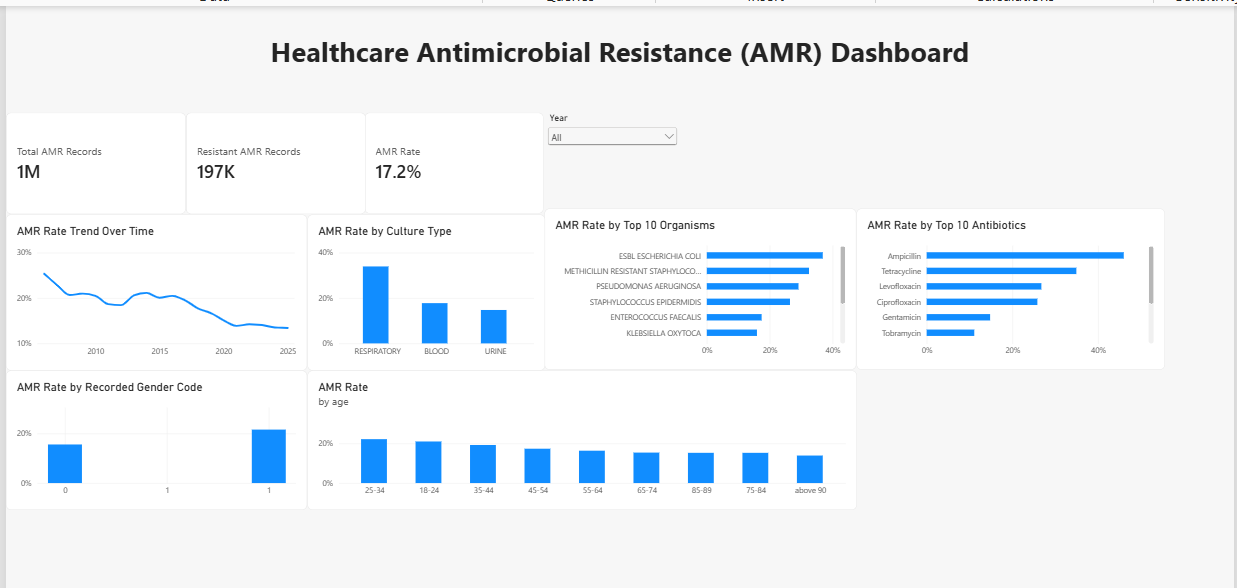

The page's visual inventory and layout, read from the dashboard file:
{"tool":"powerbi","page":{"name":"Page 1","canvas":[1920,1080],"ordinal":0},"visuals":[{"type":"cardVisual","fields":{"Data":["powerbi_amr_dashboard.AMR Rate"]},"box":[561.3,167.2,280.6,158.7],"z":0},{"type":"cardVisual","fields":{"Data":["powerbi_amr_dashboard.Resistant AMR Records"]},"box":[280.6,167.2,281,159],"z":1000},{"type":"cardVisual","fields":{"Data":["powerbi_amr_dashboard.Total AMR Records"]},"box":[0,167.2,281,159],"z":2000},{"type":"clusteredBarChart","title":"AMR Rate by Top 10 Organisms","fields":{"Category":["powerbi_amr_dashboard.organism"],"Y":["powerbi_amr_dashboard.AMR Rate"]},"box":[841.9,317.5,487.6,252.3],"z":2001},{"type":"clusteredBarChart","title":"AMR Rate by Top 10 Antibiotics","fields":{"Category":["powerbi_amr_dashboard.antibiotic"],"Y":["powerbi_amr_dashboard.AMR Rate"]},"box":[1329.5,317.5,481.9,252.3],"z":2002},{"type":"lineChart","title":"AMR Rate Trend Over Time","fields":{"Category":["powerbi_amr_dashboard.order_time_jittered.Variation.Date Hierarchy.Year"],"Y":["powerbi_amr_dashboard.AMR Rate"]},"box":[0,326,470.6,243.8],"z":2003},{"type":"clusteredColumnChart","title":"AMR Rate by Culture Type","fields":{"Category":["powerbi_amr_dashboard.culture_description"],"Y":["powerbi_amr_dashboard.AMR Rate"]},"box":[470.6,326,371.3,243.8],"z":2004},{"type":"clusteredColumnChart","title":"AMR Rate by Recorded Gender Code","fields":{"Category":["powerbi_amr_dashboard.gender"],"Y":["powerbi_amr_dashboard.AMR Rate"]},"box":[0,569.8,470.6,218.3],"z":2005},{"type":"columnChart","fields":{"Category":["powerbi_amr_dashboard.age"],"Y":["powerbi_amr_dashboard.AMR Rate"]},"box":[470.6,569.8,858.9,218.3],"z":2006},{"type":"textbox","box":[0,42.5,1919.1,62.4],"z":2007},{"type":"slicer","fields":{"Values":["powerbi_amr_dashboard.order_time_jittered.Variation.Date Hierarchy.Year"]},"box":[841.9,167.2,212.6,158.7],"z":2008}]}

Visuals, with their boxes on the page's 1920x1080 design canvas (x1, y1, x2, y2). These are canvas units, not pixel positions in the 1237x588 screenshot, which may show the page scaled, cropped or inside an application window:
cardVisual - powerbi_amr_dashboard.AMR Rate: [x1=561, y1=167, x2=842, y2=326]
cardVisual - powerbi_amr_dashboard.Resistant AMR Records: [x1=281, y1=167, x2=562, y2=326]
cardVisual - powerbi_amr_dashboard.Total AMR Records: [x1=0, y1=167, x2=281, y2=326]
"AMR Rate by Top 10 Organisms" clusteredBarChart: [x1=842, y1=318, x2=1330, y2=570]
"AMR Rate by Top 10 Antibiotics" clusteredBarChart: [x1=1330, y1=318, x2=1811, y2=570]
"AMR Rate Trend Over Time" lineChart: [x1=0, y1=326, x2=471, y2=570]
"AMR Rate by Culture Type" clusteredColumnChart: [x1=471, y1=326, x2=842, y2=570]
"AMR Rate by Recorded Gender Code" clusteredColumnChart: [x1=0, y1=570, x2=471, y2=788]
columnChart - powerbi_amr_dashboard.age x powerbi_amr_dashboard.AMR Rate: [x1=471, y1=570, x2=1330, y2=788]
textbox: [x1=0, y1=42, x2=1919, y2=105]
slicer - powerbi_amr_dashboard.order_time_jittered.Variation.Date Hierarchy.Year: [x1=842, y1=167, x2=1054, y2=326]
